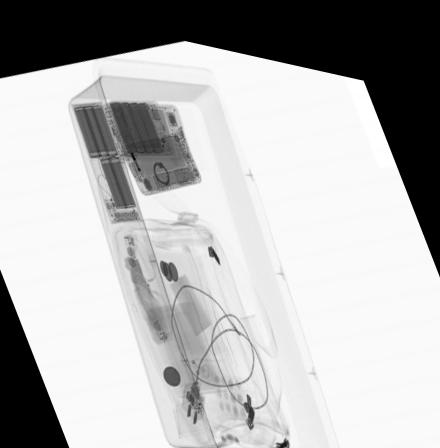Powerbank: (69, 96, 142, 220), (103, 91, 177, 152)
